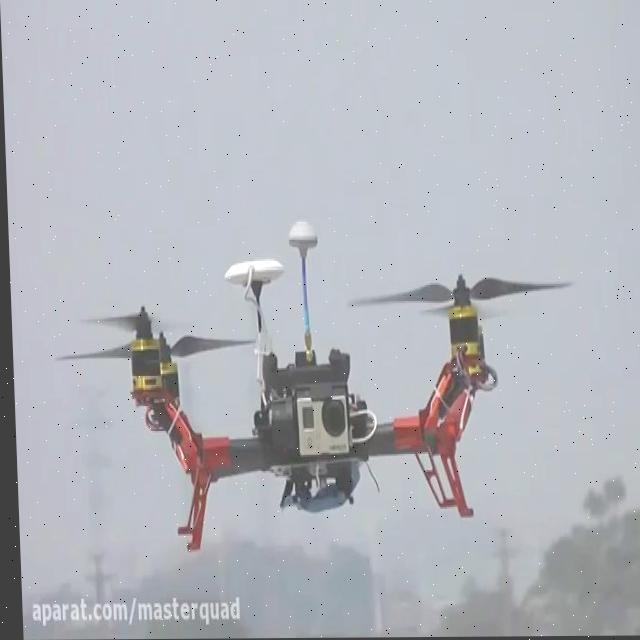drone: (44, 211, 587, 557)
